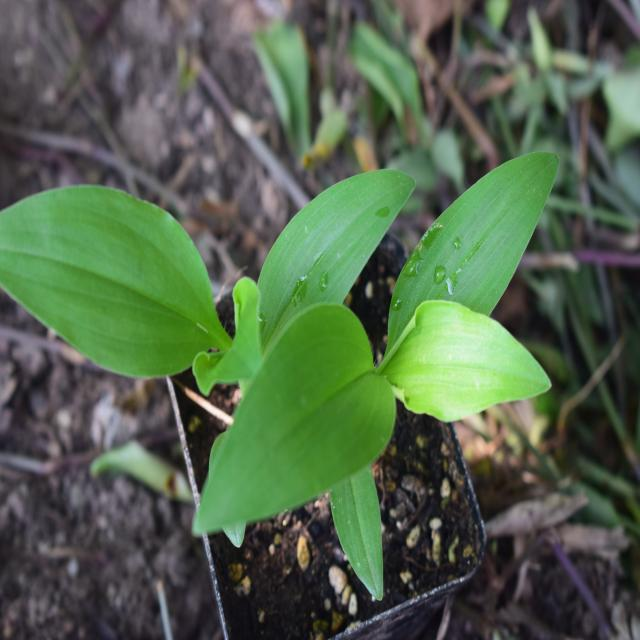Common Dayflower: (244, 134, 569, 542), (0, 145, 244, 417)
